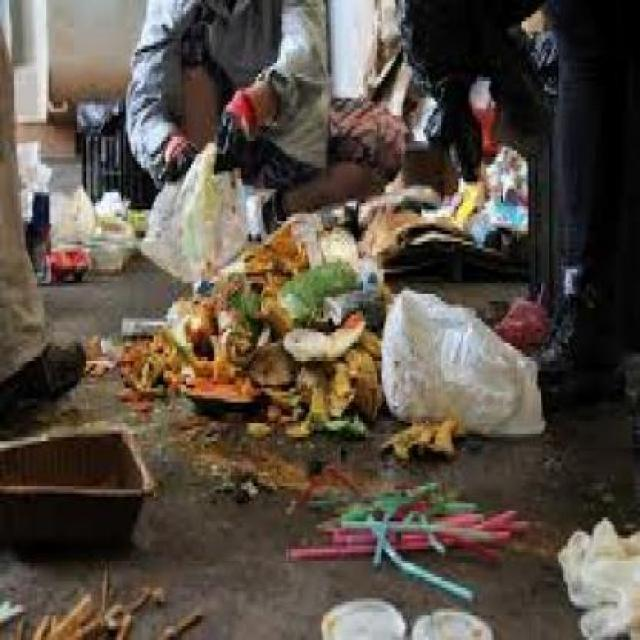garbage: (227, 200, 536, 466), (37, 179, 232, 399), (342, 99, 535, 266), (340, 486, 528, 636)
